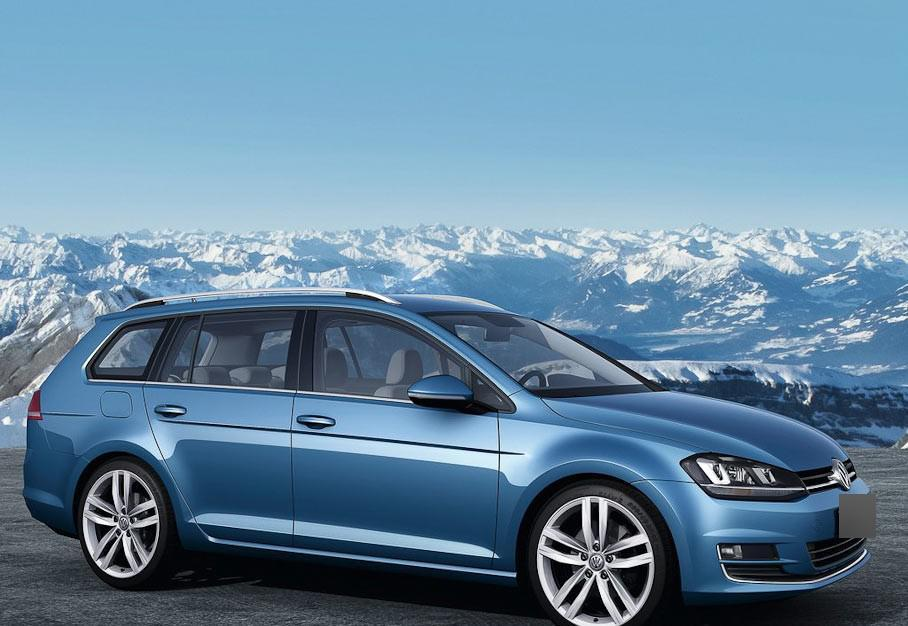Wagon: (23, 286, 872, 626)
